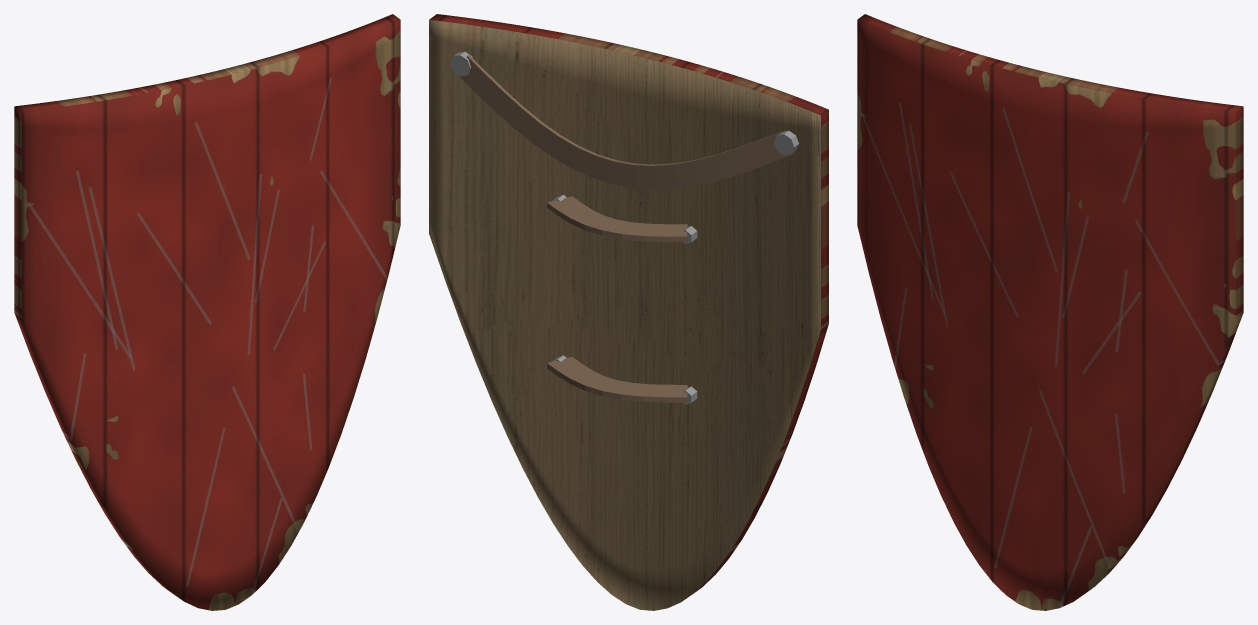
Rendered from heater_crown_p2_w1.glb.
The picture shows the model from 3 angles, left to right: view 1: azimuth 30°, elevation 25°; view 2: azimuth 150°, elevation 25°; view 3: azimuth 330°, elevation 25°; orthographic projection. The views are drawn at different scales.
Parts seen in each view (by area): view 1: heater_crown_p2_w1; view 2: heater_crown_p2_w1; view 3: heater_crown_p2_w1.
Boxes of the visible parts, x1=… form: heater_crown_p2_w1: x1=14, y1=14, x2=400, y2=610; heater_crown_p2_w1: x1=429, y1=14, x2=828, y2=610; heater_crown_p2_w1: x1=857, y1=14, x2=1243, y2=610.
Bounding box in the file's own units: 0.46 × 0.62 × 0.092.
Materials: 4 (2 with a texture image).
